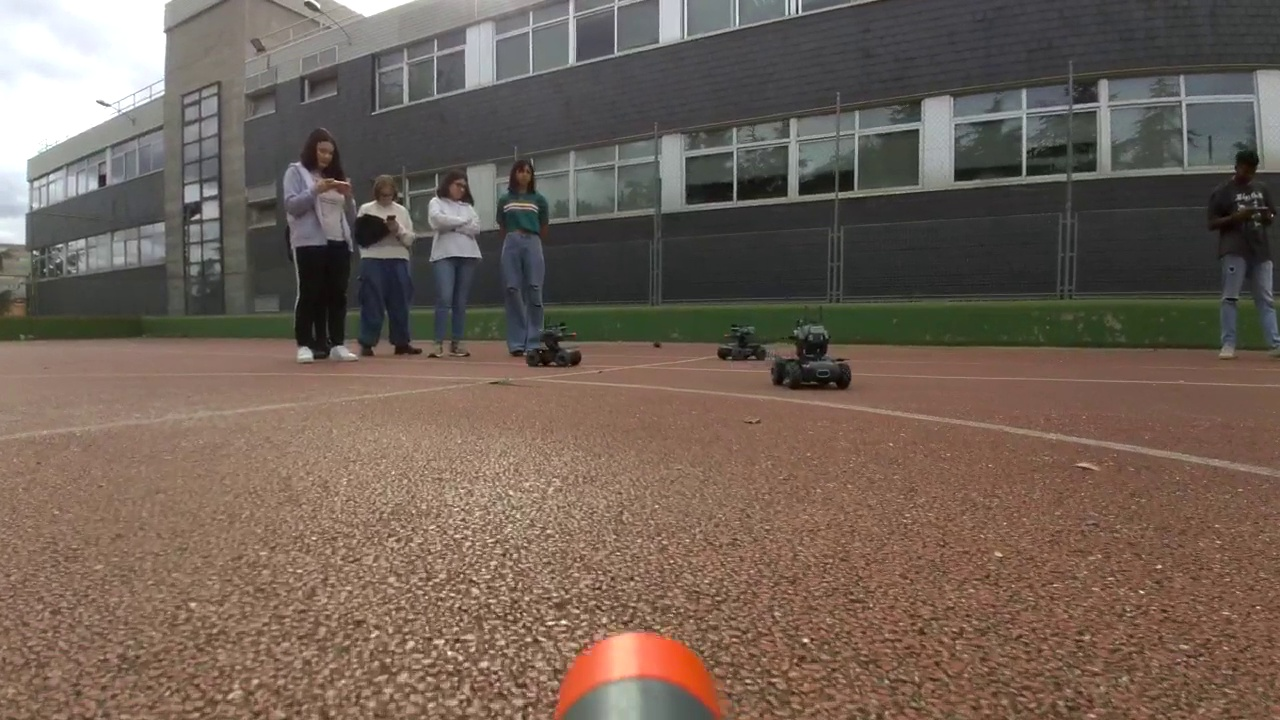robot: (771, 320, 850, 390), (526, 321, 582, 367), (719, 322, 765, 363)
